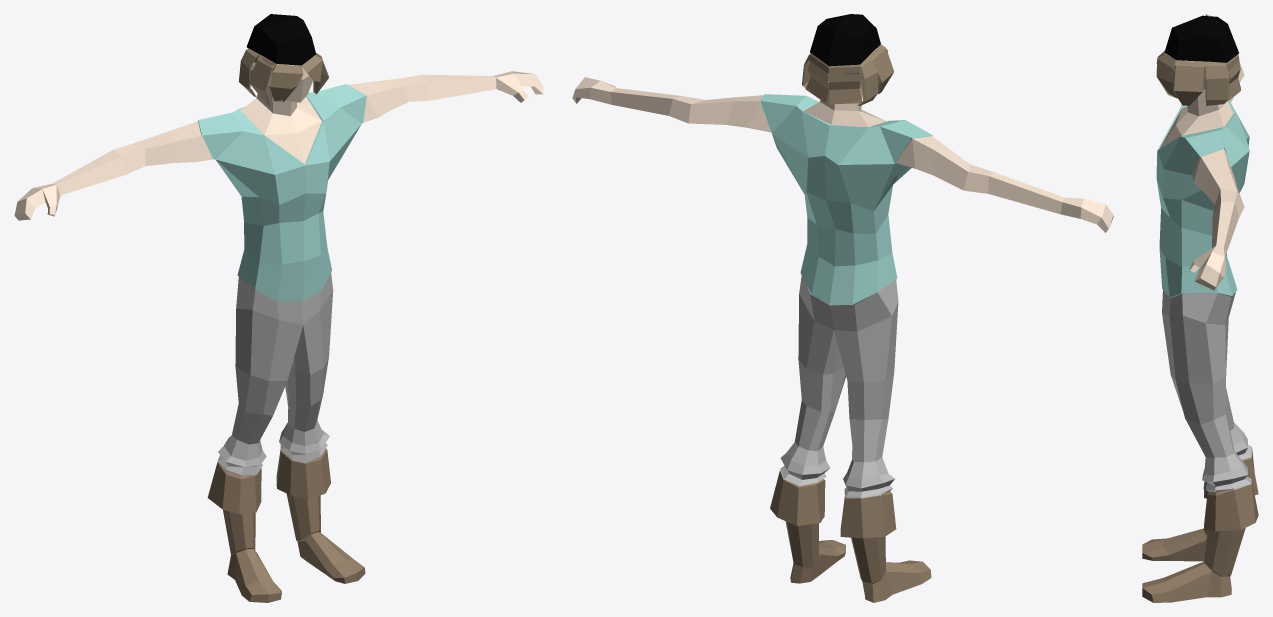
Rendered from Pirata 1.fbx.
The picture shows the model from 3 angles, left to right: view 1: azimuth 30°, elevation 25°; view 2: azimuth 150°, elevation 25°; view 3: azimuth 270°, elevation 25°; orthographic projection. The views are drawn at different scales.
Visible parts, largest first — view 1: Circle; view 2: Circle; view 3: Circle.
Boxes of the visible parts, left/top/right/bottom form: Circle: left=14, top=14, right=543, bottom=602; Circle: left=572, top=14, right=1113, bottom=602; Circle: left=1142, top=14, right=1258, bottom=602.
Bounding box in the file's own units: 186 × 188 × 35.57.
